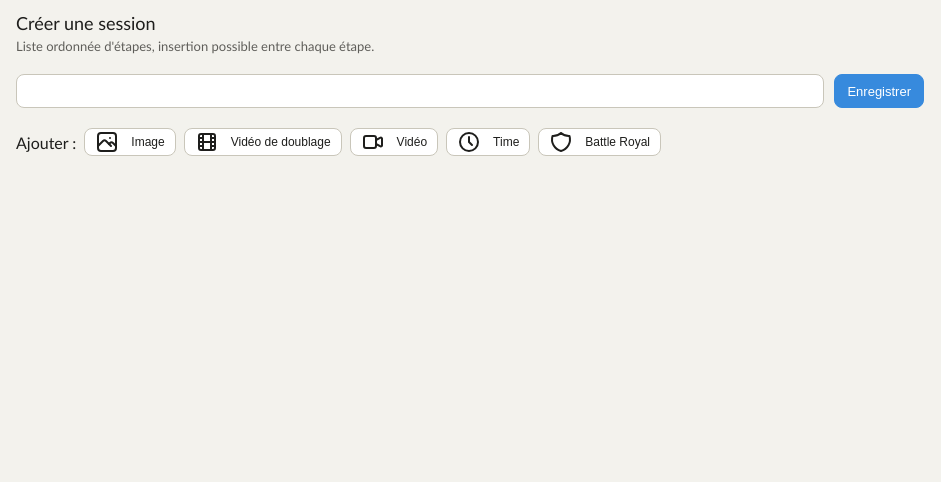
Test case: SessionCreationScreen - saving › blocks save and shows a validation error when a step is invalid
Type "Remise des diplômes" into the field named "Nom de la session" at (420, 91), box [16,74,824,108]
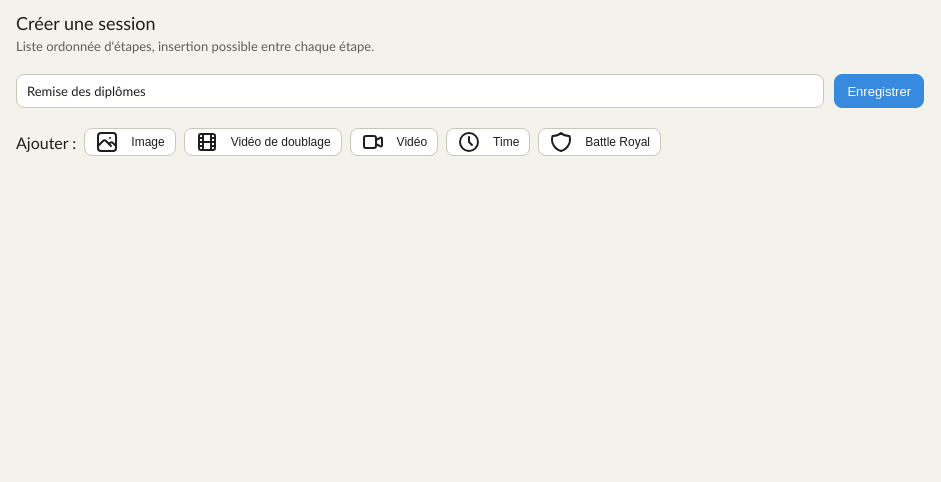
Click the button "Image" at (130, 142), box [84,128,176,156]
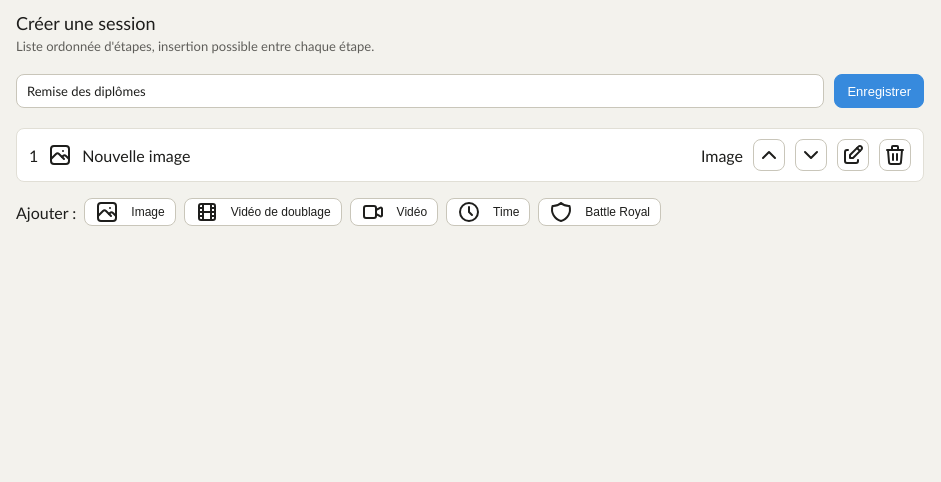
Click the button "Enregistrer" at (879, 91), box [834,74,924,108]
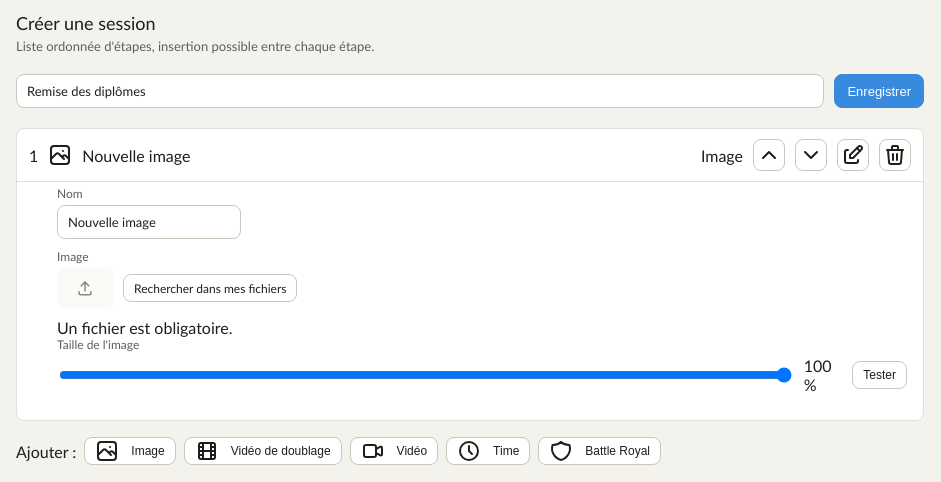
Expected: the text "Un fichier est obligatoire." is shown, [57,318,232,337]
